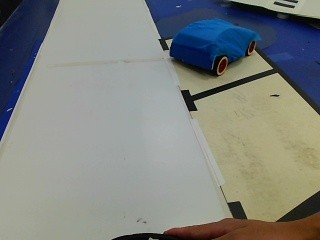car: (168, 17, 260, 76)
